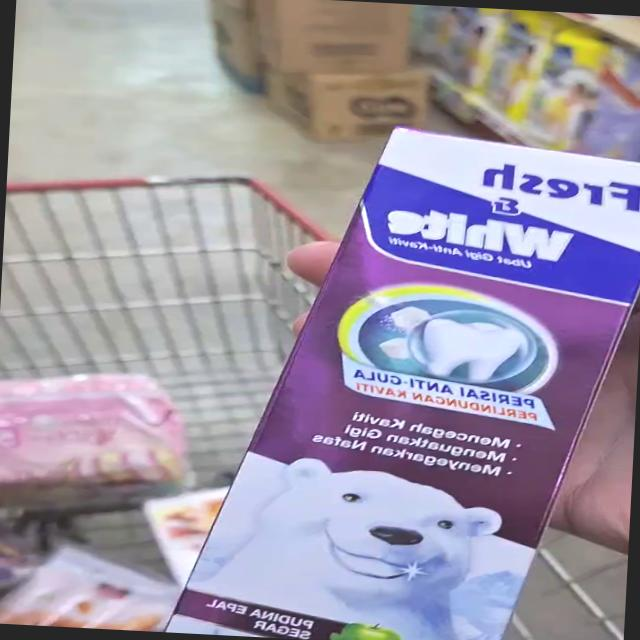Ubat Gigi: (302, 129, 640, 438), (158, 396, 576, 640)
